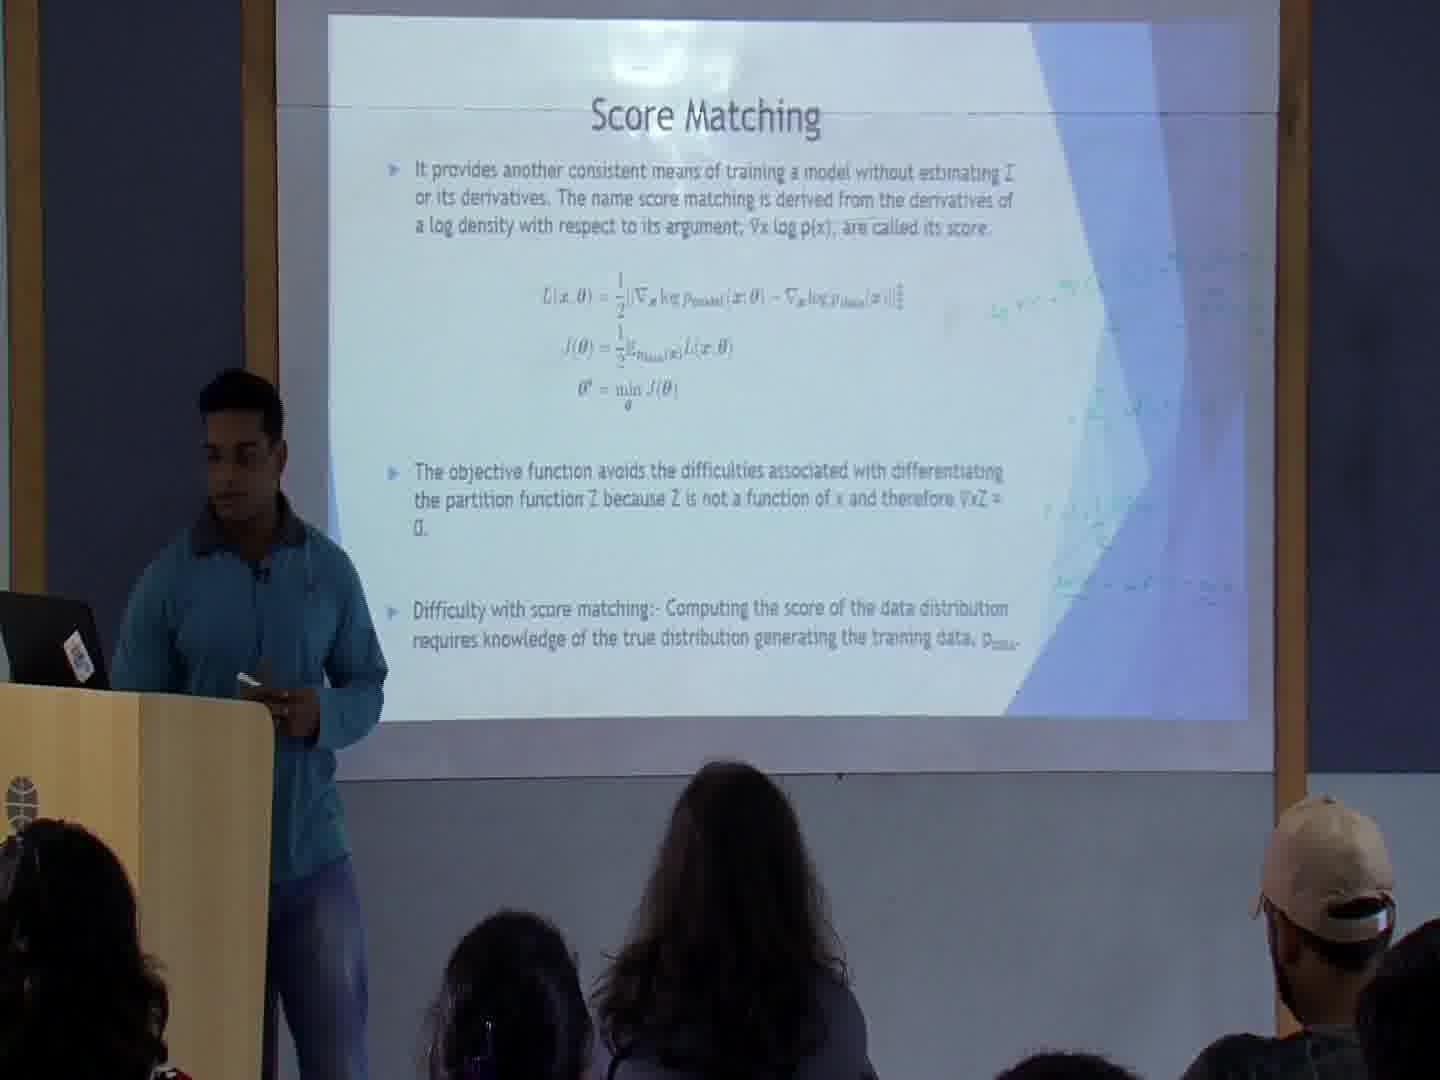eq: (541, 272, 910, 321), (560, 324, 735, 369), (574, 373, 684, 413)
